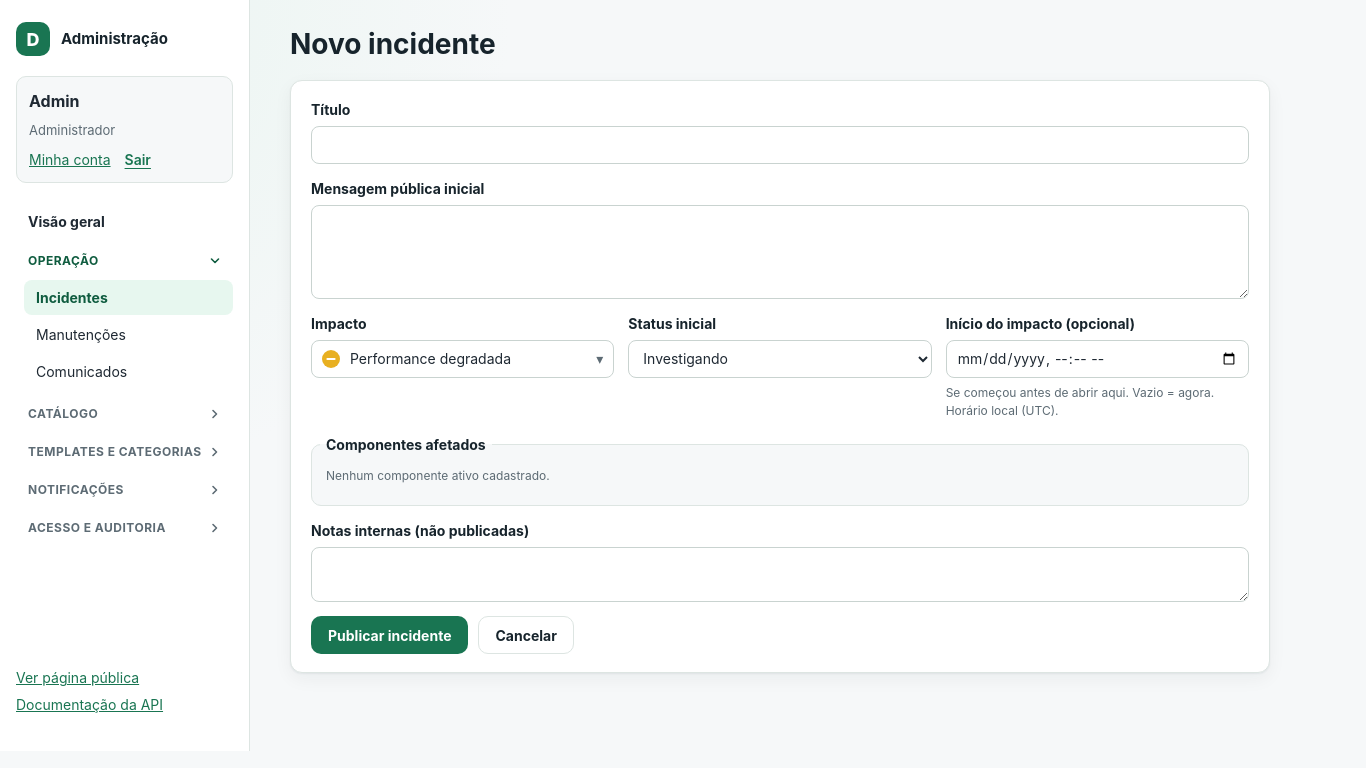
Scenario: impact selector › lists the four impact levels with icons and supports the keyboard
Click the dropdown named "Impacto".
click(463, 359)  # box [311,340,614,378]
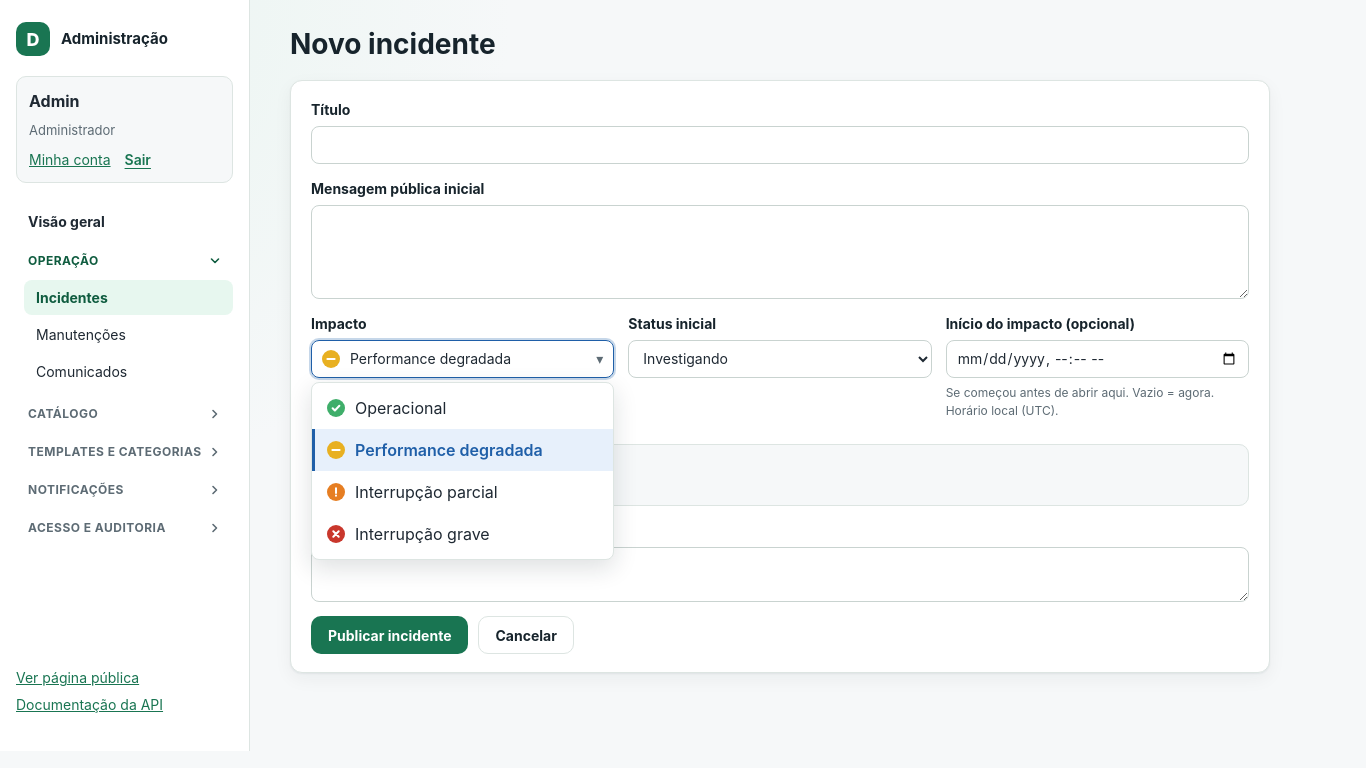
Expected: the options read "Operacional", "Performance degradada", "Interrupção parcial", "Interrupção grave", in this order
Click the option "Interrupção grave".
click(408, 534)  # box [327,524,490,544]
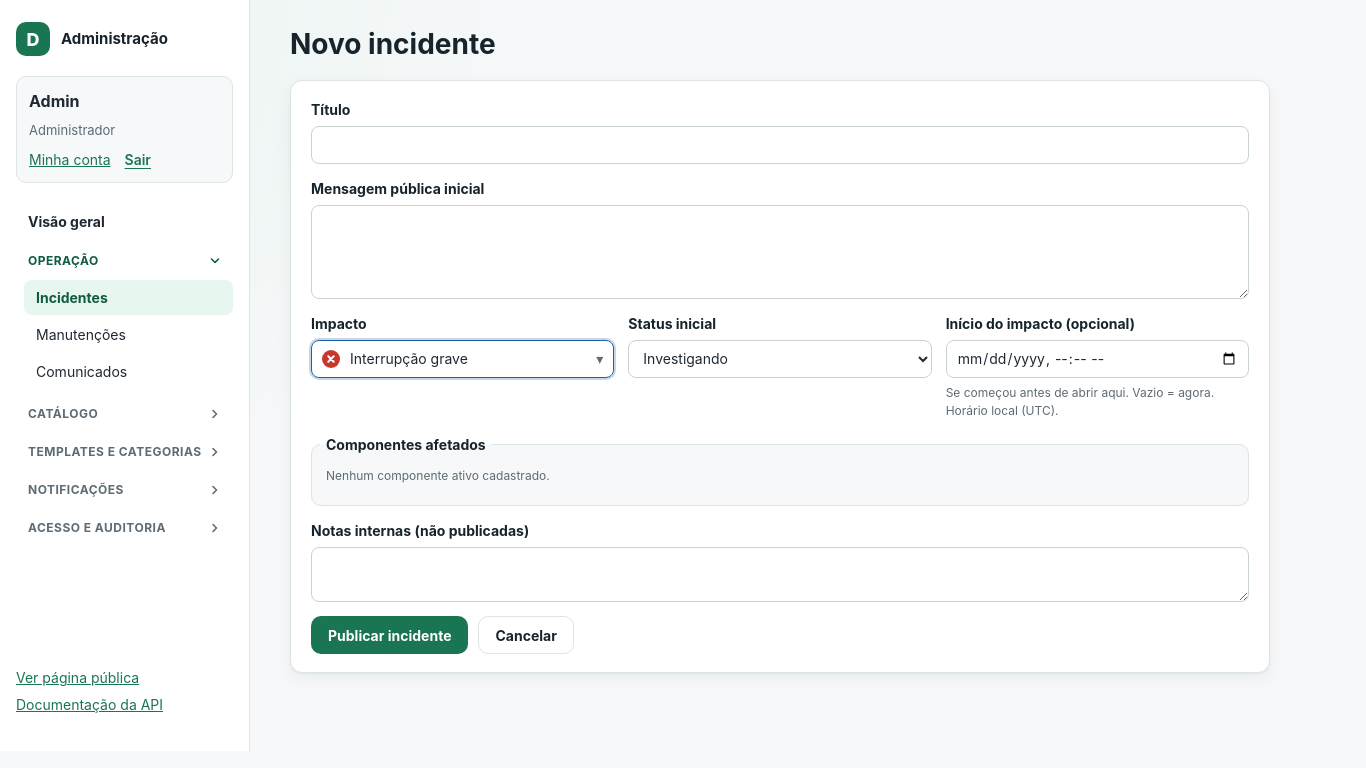
Expected: the dropdown named "Impacto" shows "Interrupção grave", [311,340,614,378]
Press Arrowdown Arrowup Enter
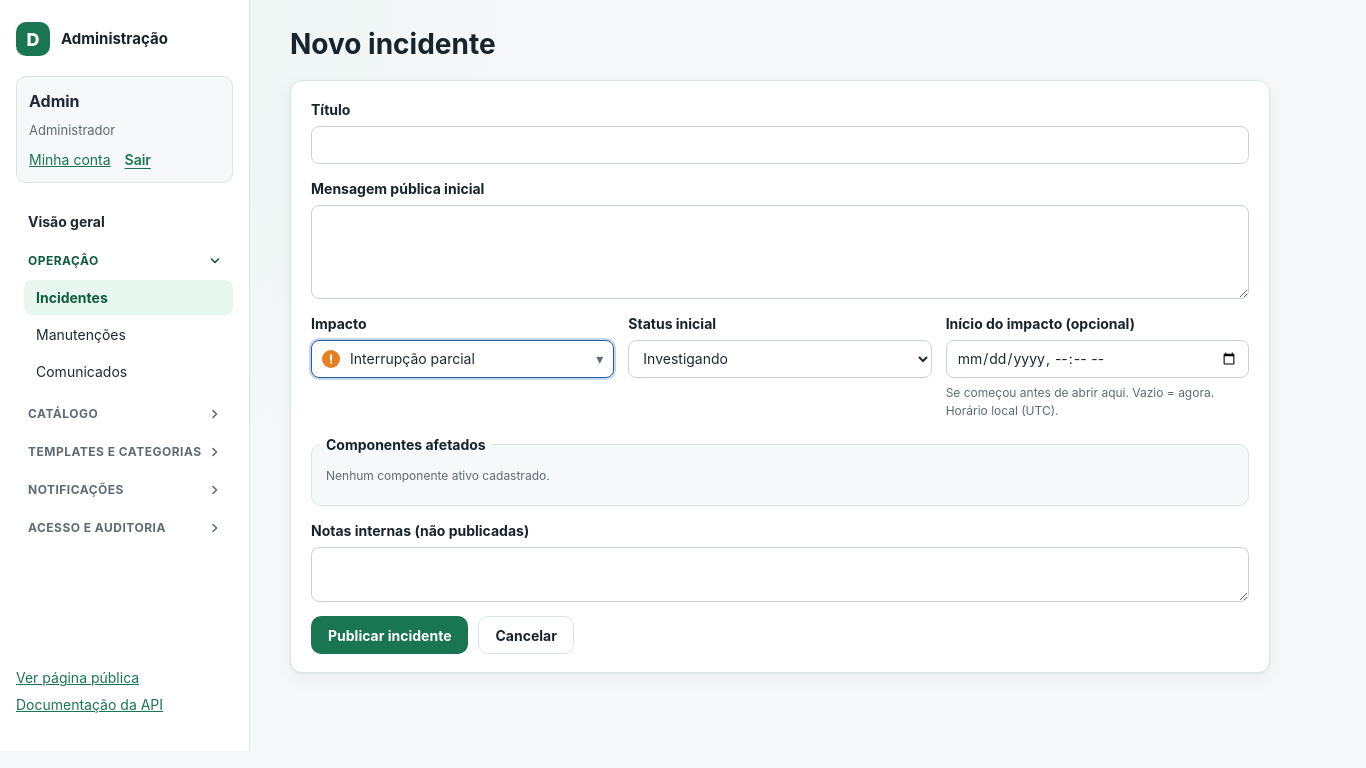
Expected: the dropdown named "Impacto" shows "Interrupção parcial", [311,340,614,378]
Type "Falha" into the field labelled "Título".
click(780, 145); type("Falha")  # box [311,126,1249,164]
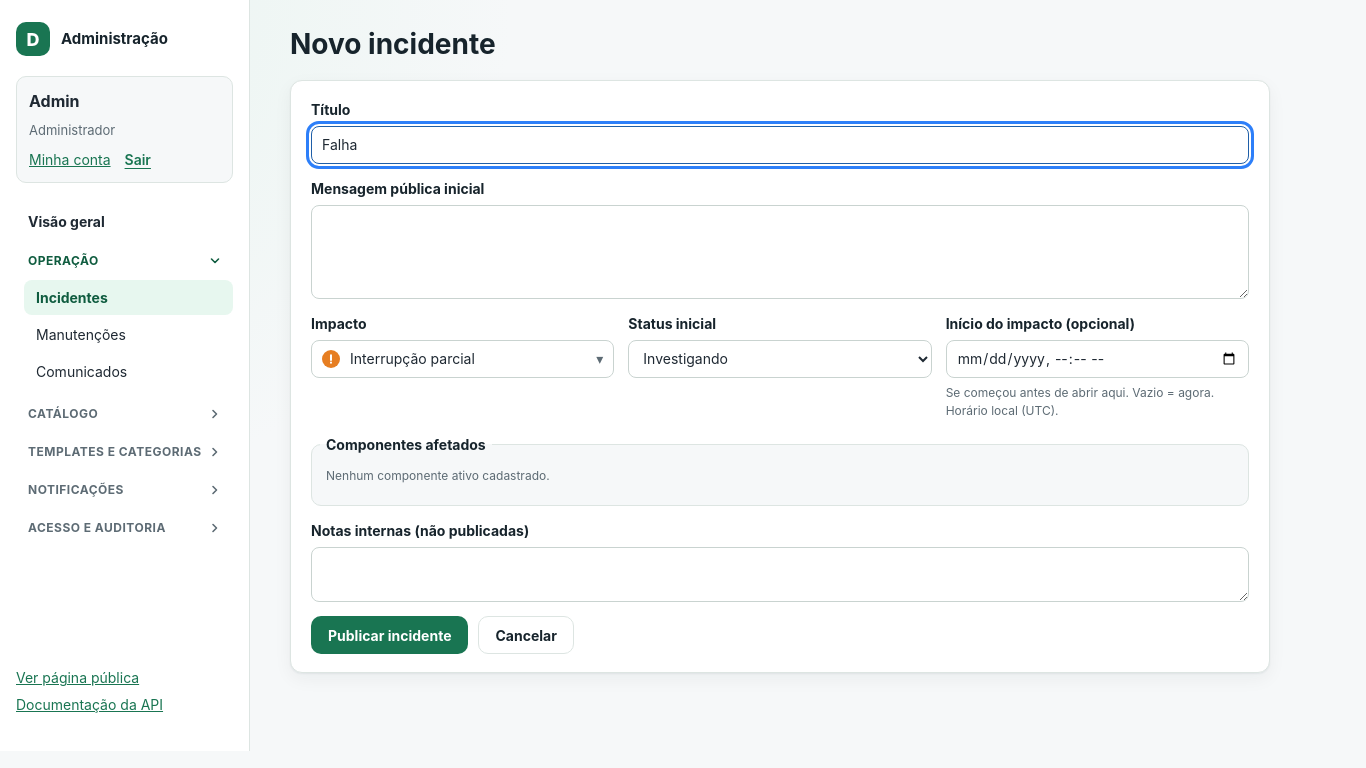
Type "Investigando." into the text box labelled "Mensagem pública inicial".
click(780, 252); type("Investigando.")  # box [311,205,1249,299]
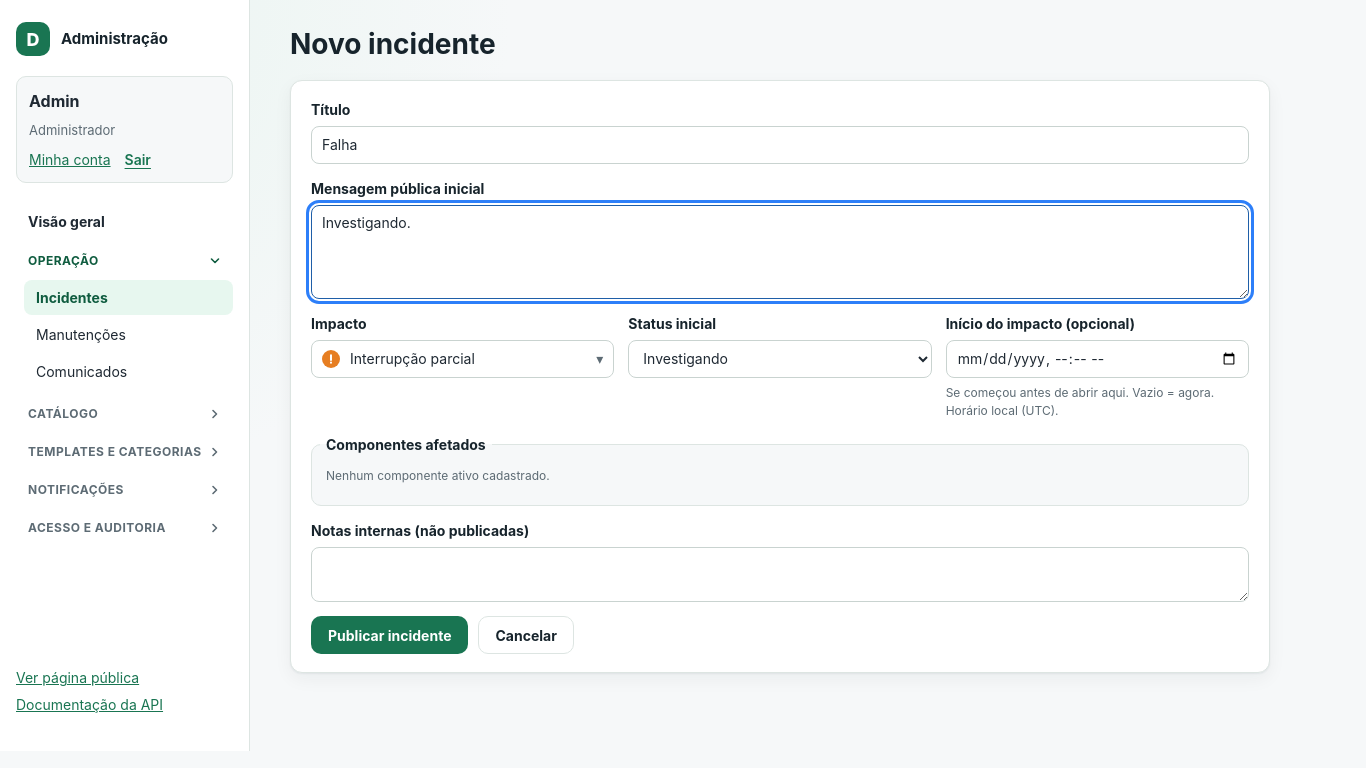
Click the button "Publicar incidente".
click(390, 635)  # box [311,616,468,654]
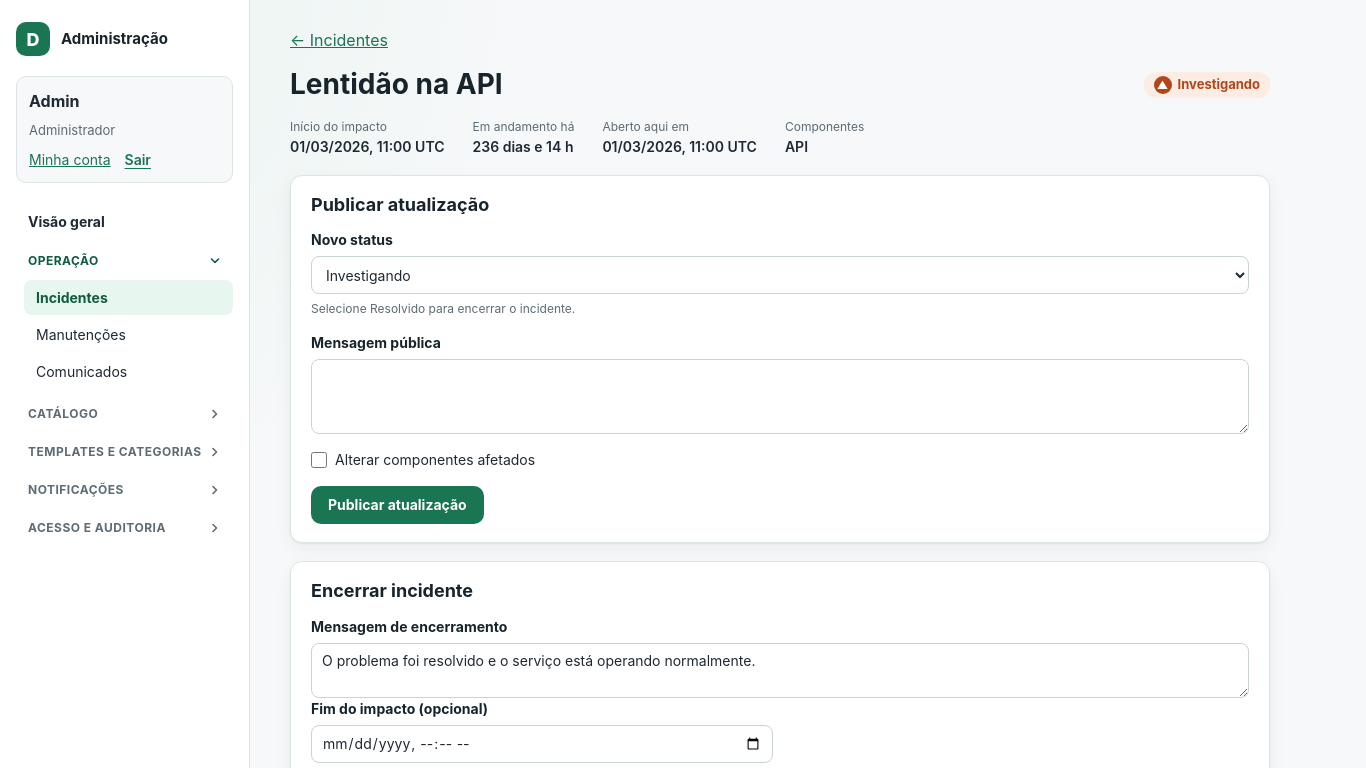
Expected: the heading "Lentidão na API" is shown, [290,68,503,102]
